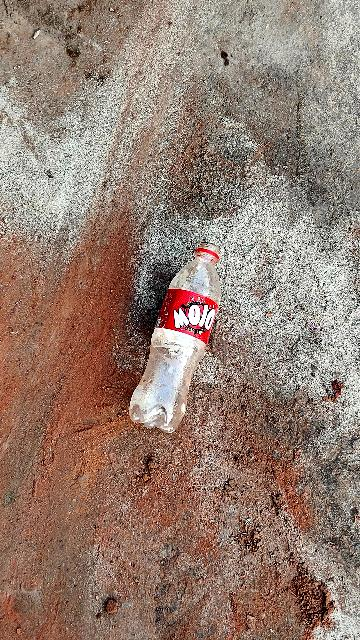bottle: (124, 244, 243, 432)
